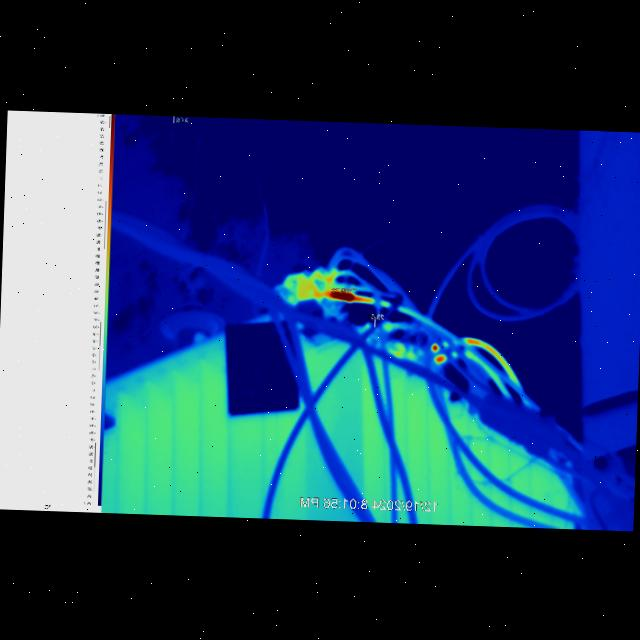loose_joint_red: (289, 270, 322, 302)
point_overload_red: (462, 337, 519, 382), (323, 288, 379, 303), (324, 269, 338, 290), (432, 352, 445, 363), (430, 342, 438, 351)
point_overload_yellow: (466, 350, 510, 396)
